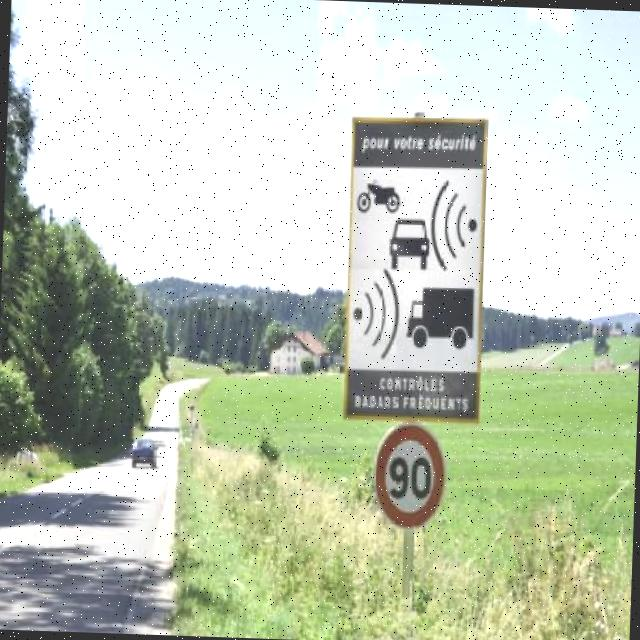Ograniczenie predkosci do 90: (378, 427, 446, 523)
